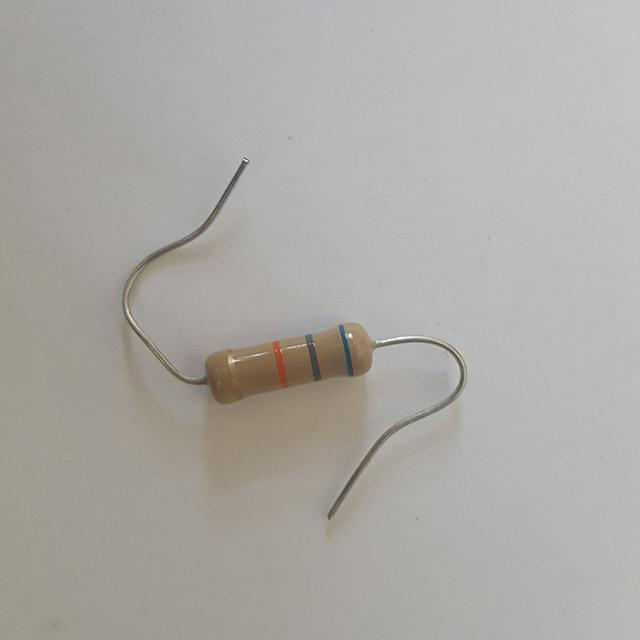blue: (338, 325, 355, 376)
gold: (227, 350, 241, 400)
grey: (307, 336, 323, 381)
orange: (273, 343, 288, 386)
resistor: (189, 298, 390, 416)
